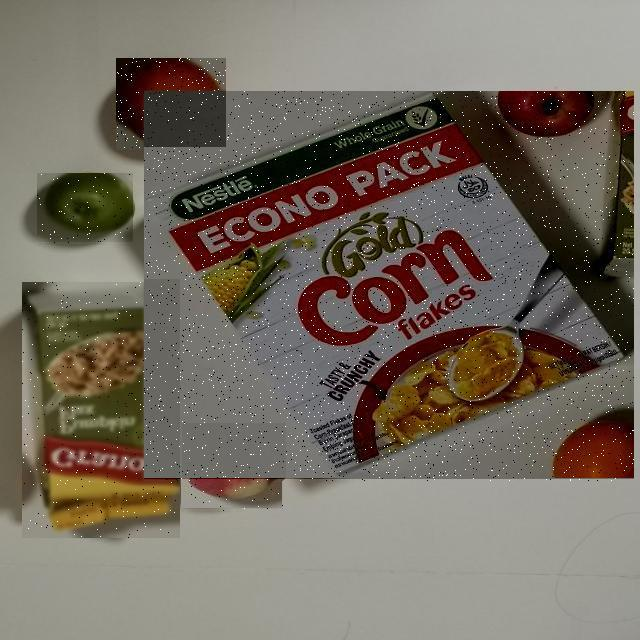Apple: (182, 426, 286, 512), (37, 174, 133, 244)
Cereal: (145, 92, 635, 482), (22, 282, 180, 538)
Orange: (117, 59, 227, 151)
